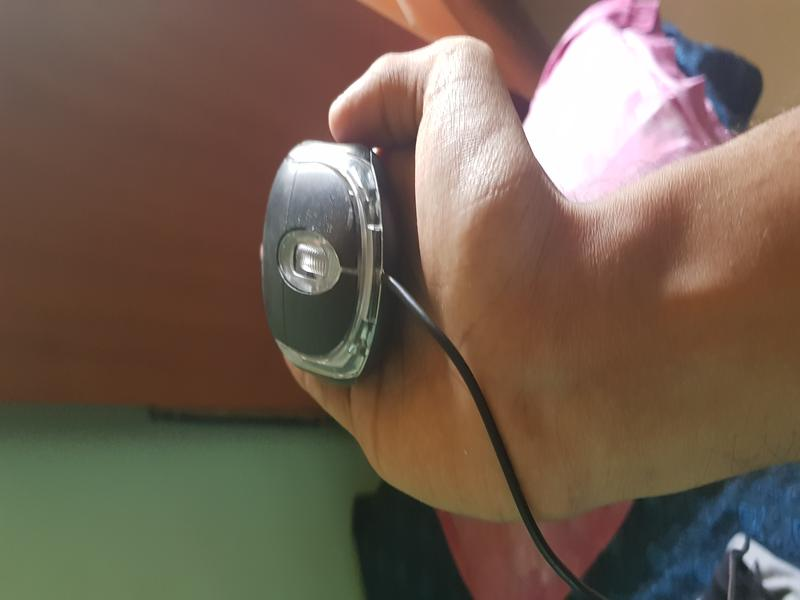mouse: (238, 94, 366, 388)
